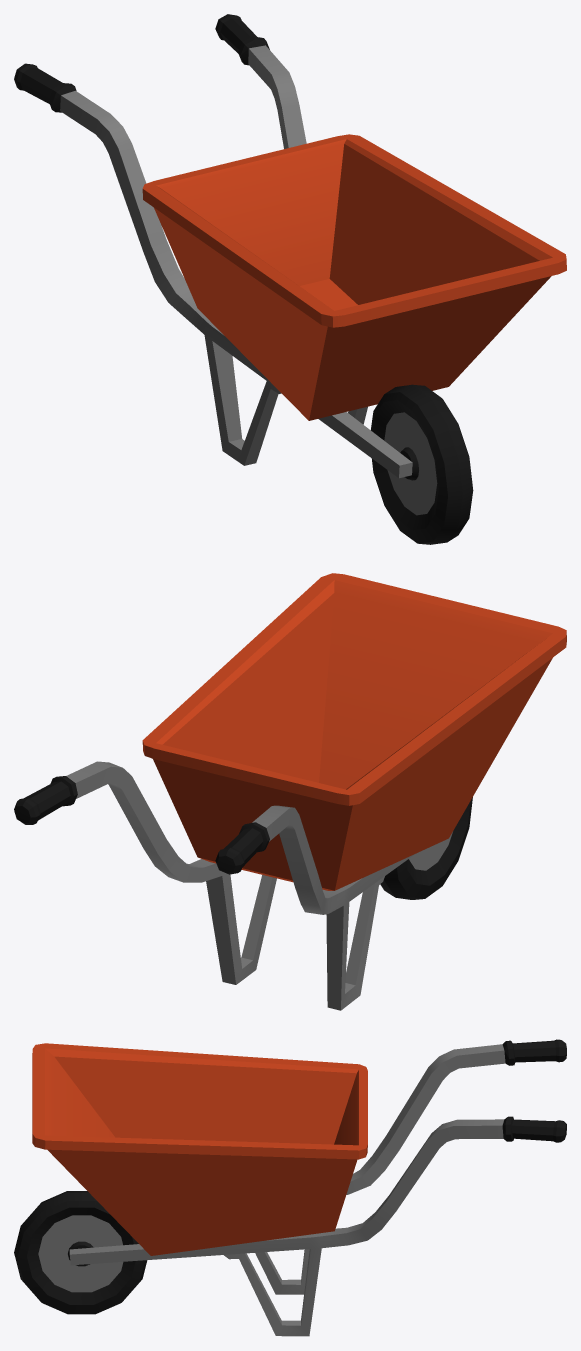
The model's file is Wheelbarrow.fbx.
3 views of the same model, one above another, from view 1: azimuth 30°, elevation 25°; view 2: azimuth 150°, elevation 25°; view 3: azimuth 270°, elevation 25° (orthographic). The views are drawn at different scales.
Parts seen in each view (by area): view 1: Cube; view 2: Cube; view 3: Cube.
Part boxes in pixels (left/top/right/bottom): Cube: left=14, top=14, right=566, bottom=544; Cube: left=14, top=573, right=566, bottom=1010; Cube: left=14, top=1039, right=566, bottom=1336.
Bounding box in the file's own units: 280 × 130 × 116.
